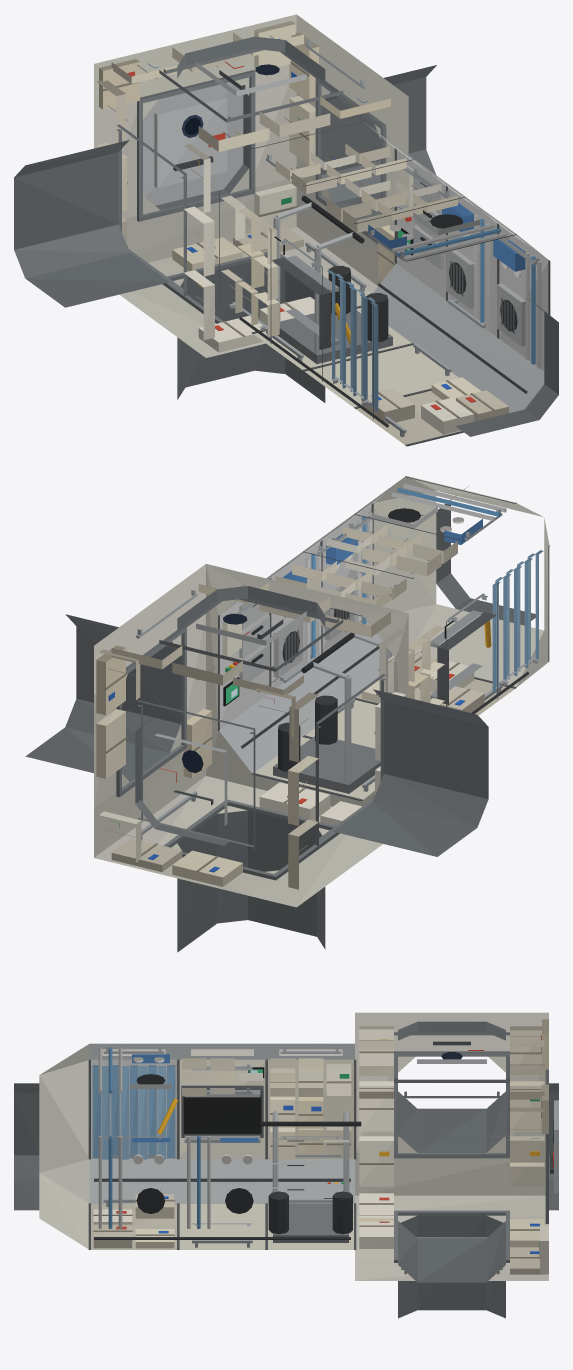
File: m-tranquility.glb
3 renders of one model, top to bottom at view 1: azimuth 30°, elevation 25°; view 2: azimuth 150°, elevation 25°; view 3: azimuth 270°, elevation 25°, orthographic. The views are drawn at different scales.
Visible parts, largest first — view 1: tranquility; view 2: tranquility; view 3: tranquility.
Boxes of the visible parts, x1,y1,x2,y2 form: tranquility: [14, 14, 558, 446]; tranquility: [25, 476, 549, 952]; tranquility: [14, 1012, 558, 1318].
Bounding box in the file's own units: 4.88 × 3.78 × 6.47.
